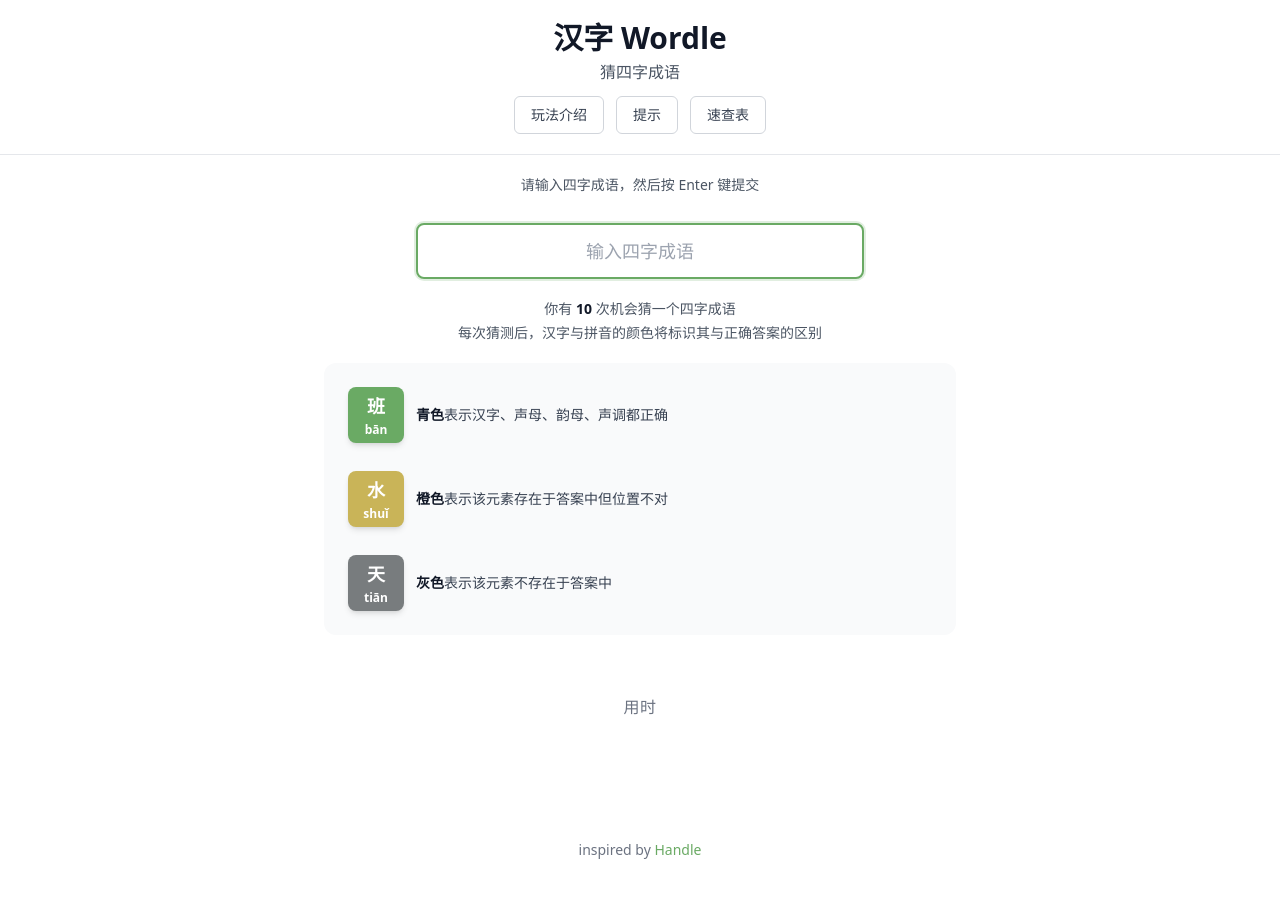
Modal Functionality › should close hint modal when close button is clicked
What coordinates should you click on to do the following:
click the button "提示"
I would click on:
 (647, 115)
Its box is [616,96,678,134].
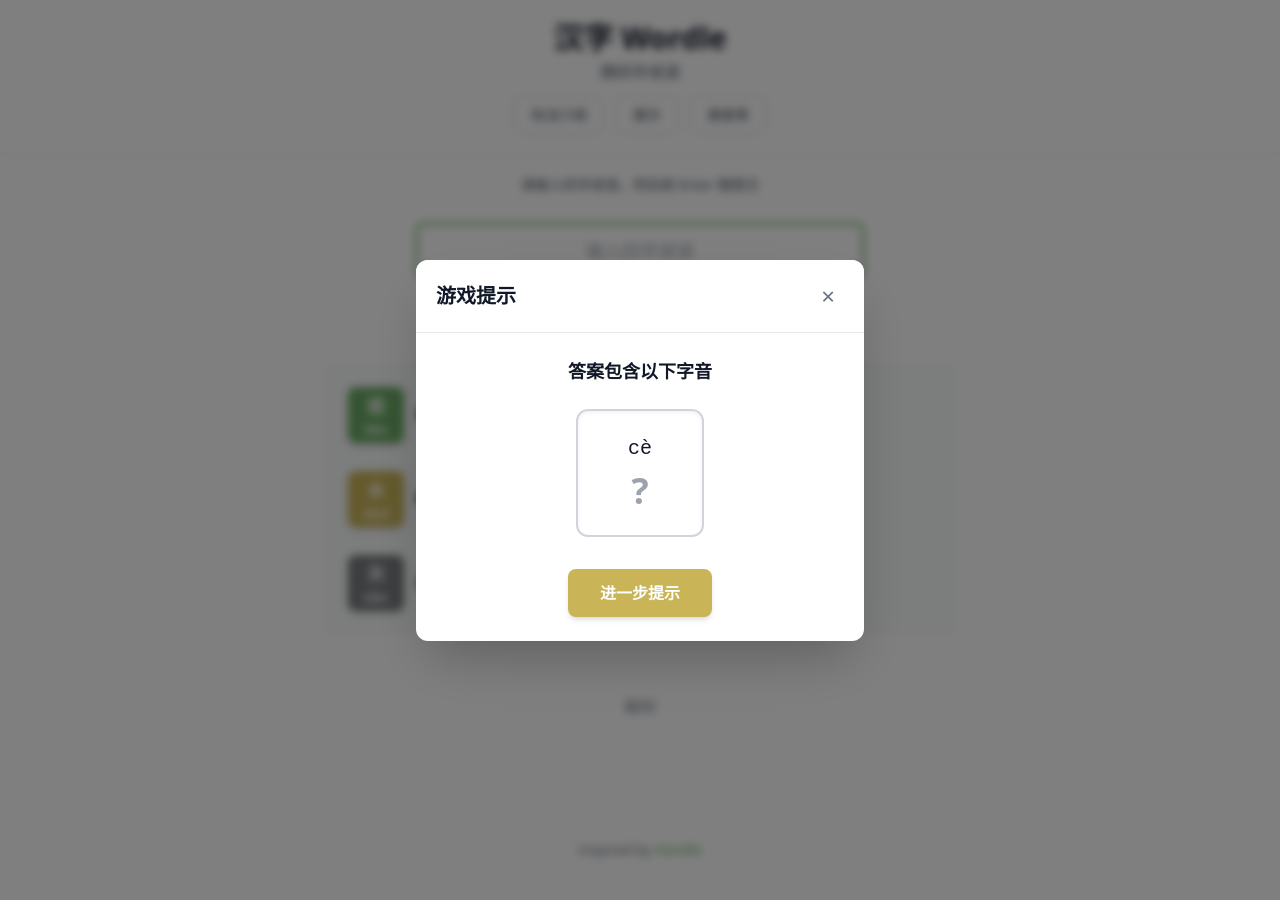
expect the heading "游戏提示" is shown: met, box [436,282,516,310]
What coordinates should you click on to do the following:
click the button "×"
I would click on:
 (828, 296)
Its box is [812,280,844,312].
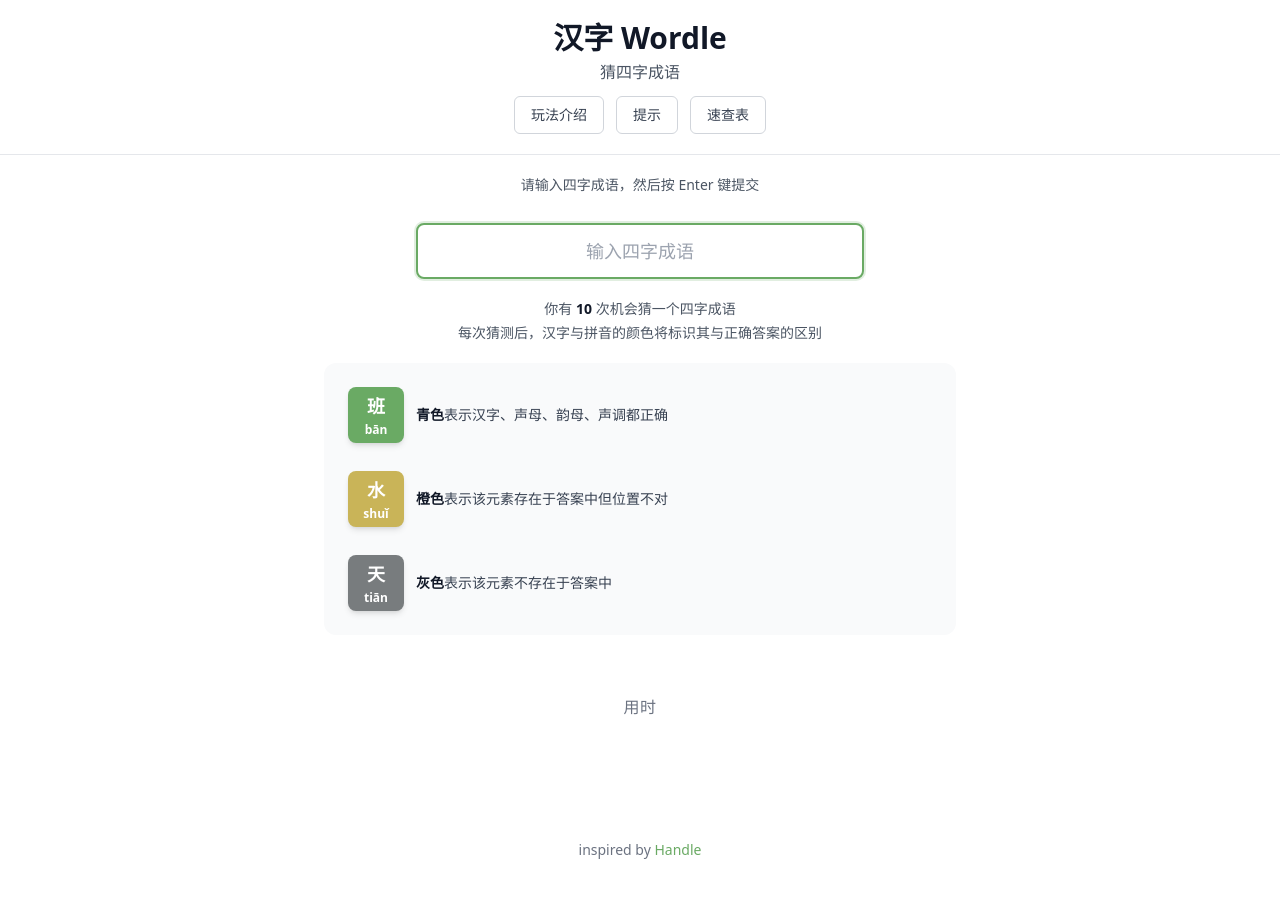
expect the heading "游戏提示" is gone: met
